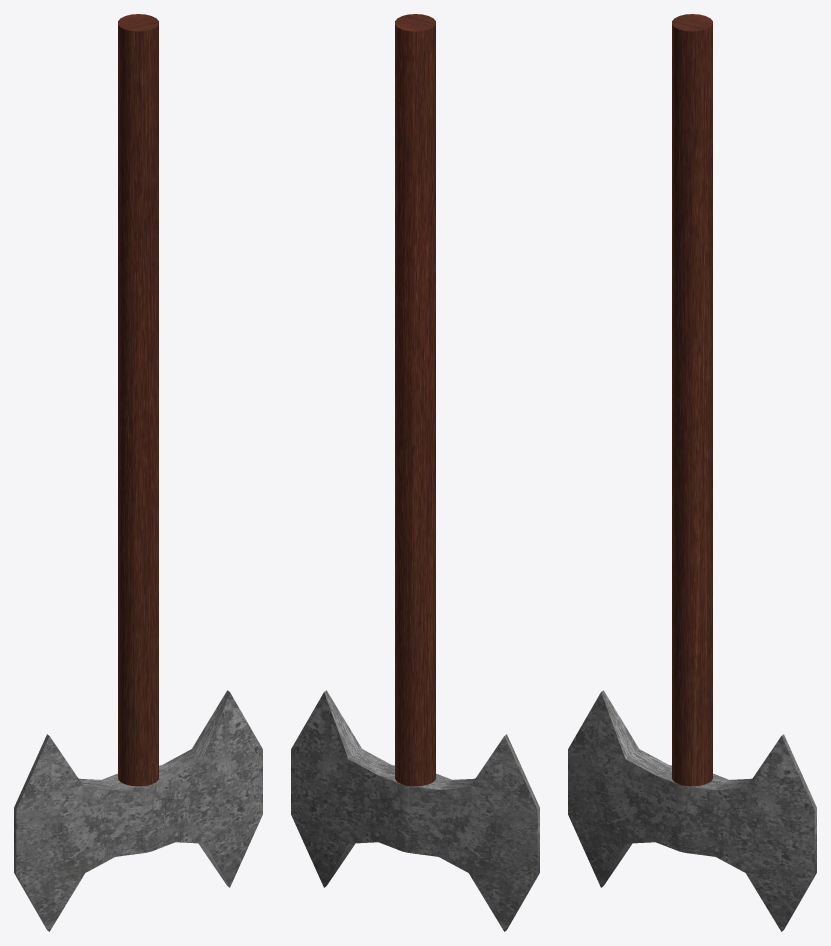
File: Axe.FBX
3 views of the same model, side by side, from view 1: azimuth 30°, elevation 25°; view 2: azimuth 150°, elevation 25°; view 3: azimuth 330°, elevation 25° (orthographic).
Visible parts, largest first — view 1: Axe; view 2: Axe; view 3: Axe.
Part boxes in pixels (x1,y1,x2,y2): Axe: (14,14,262,931); Axe: (291,14,539,931); Axe: (568,14,816,931).
Size of the model in its own units: 683 by 2348 by 100.
Materials: 1 (1 with a texture image).
